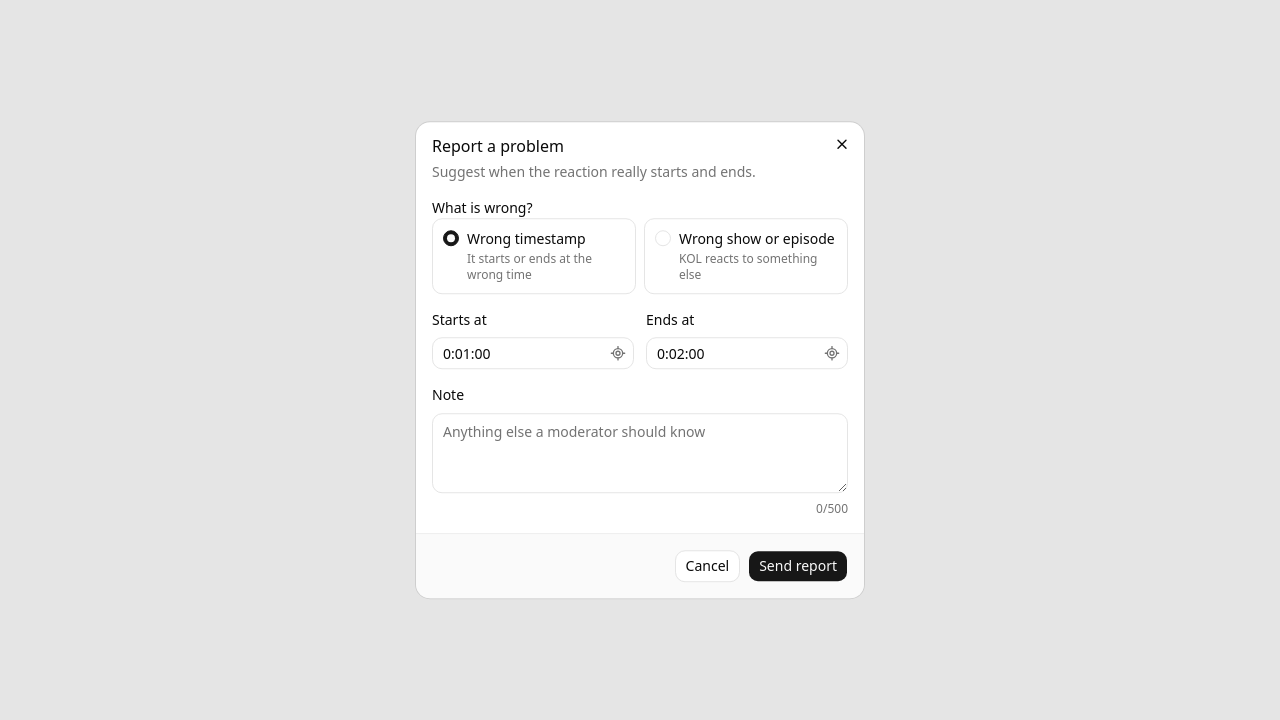
Test: reportDialog › reports a reaction's timestamp with times taken from the video
Click the button named "Set ends at from the video": (832, 354) [820, 342, 844, 366]
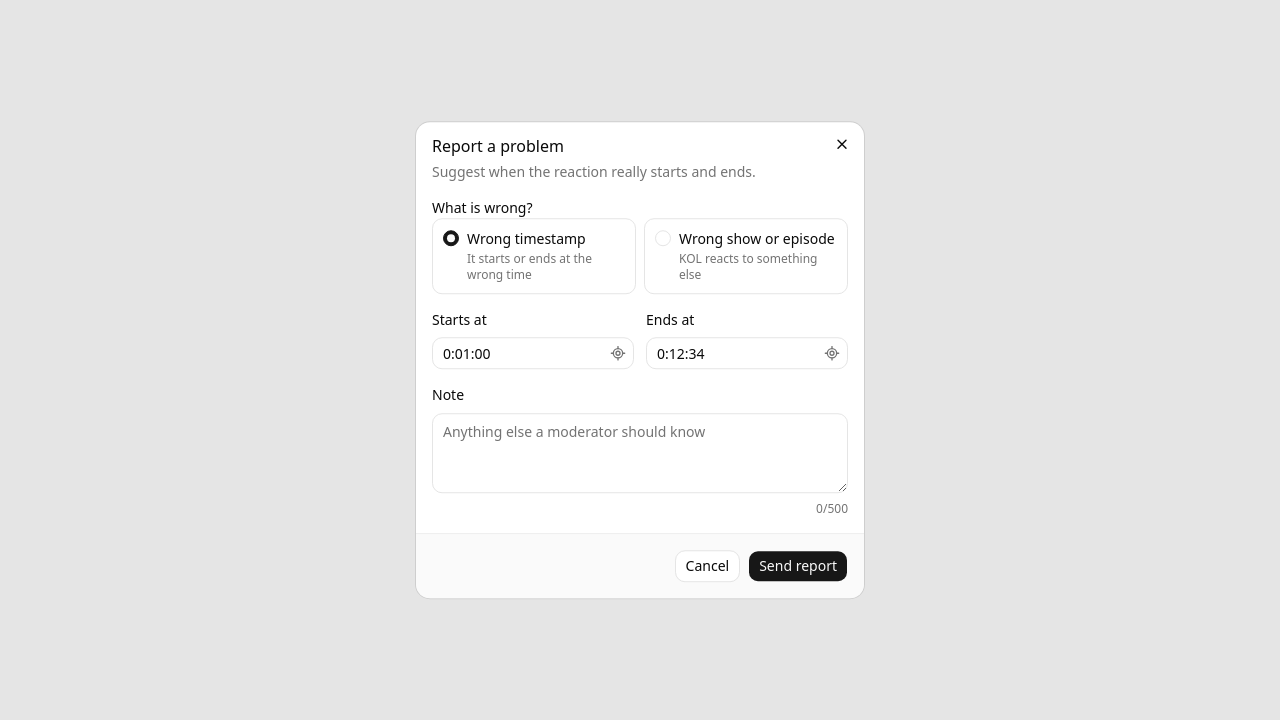
Click the button "Send report": (798, 566) [748, 550, 848, 582]
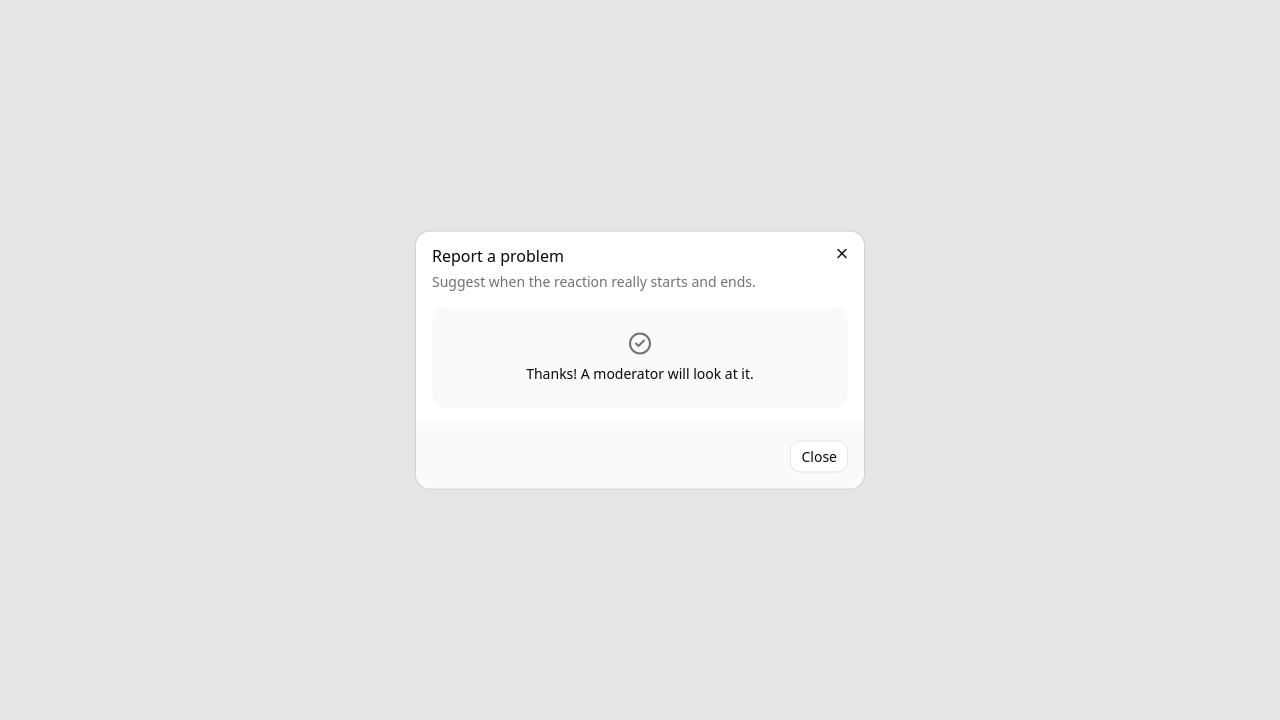
Now the text "Thanks! A moderator will look at it." is shown, box [526, 364, 754, 384]
